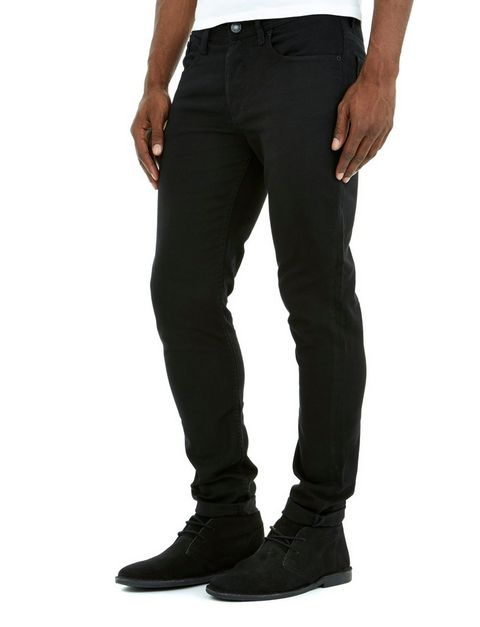jeans: (150, 18, 372, 523)
